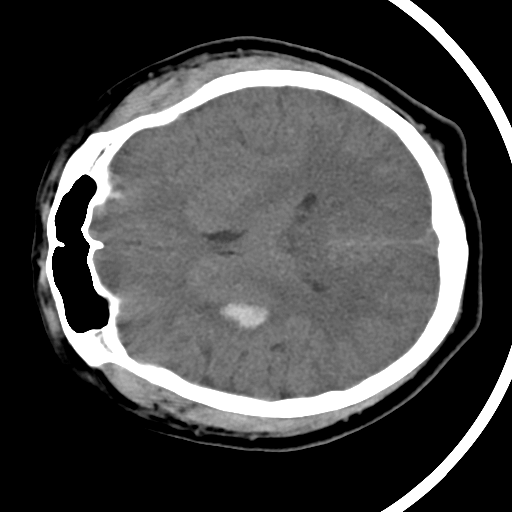a: (196, 294, 287, 349)
